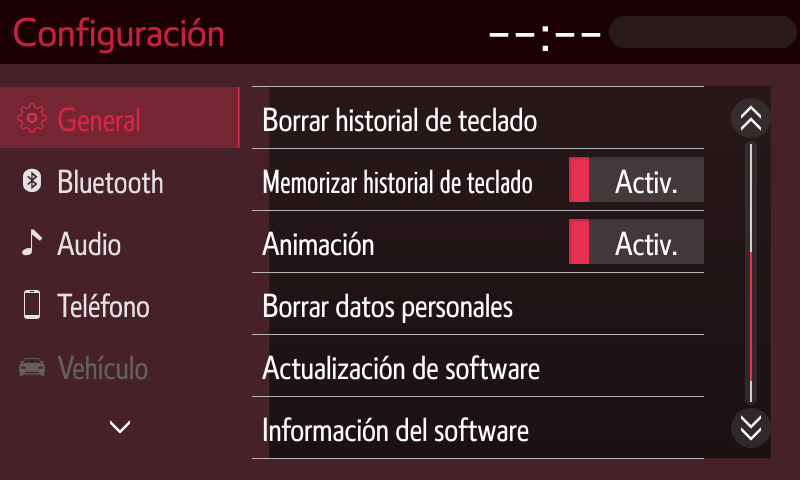touchPart: (245, 267, 708, 343), (248, 205, 713, 279), (241, 329, 710, 402), (241, 392, 712, 464), (249, 80, 706, 153), (250, 145, 711, 209), (6, 286, 192, 326), (9, 159, 182, 196), (9, 217, 141, 263), (728, 405, 768, 448), (728, 100, 767, 138), (94, 416, 148, 442)
untouchPart: (3, 83, 241, 152), (472, 10, 795, 55), (10, 12, 238, 54), (17, 342, 158, 385)
